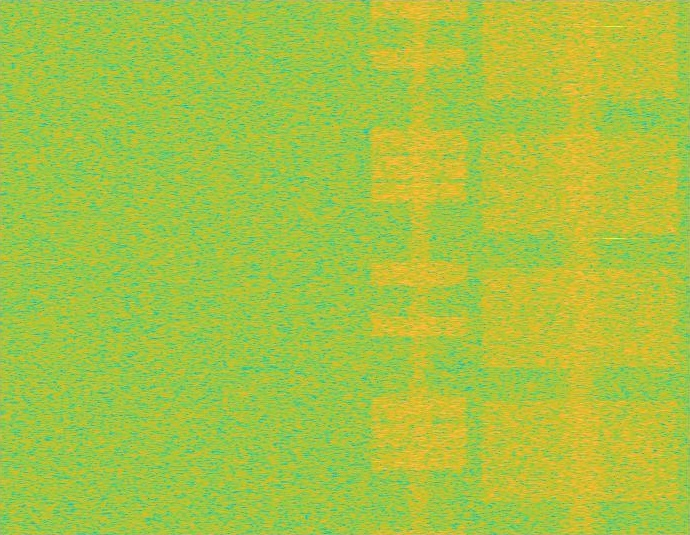5G: (477, 0, 684, 534)
DSSS: (557, 0, 604, 534), (408, 0, 431, 534)
LTE: (367, 0, 471, 534)
Radar: (607, 0, 621, 534)
